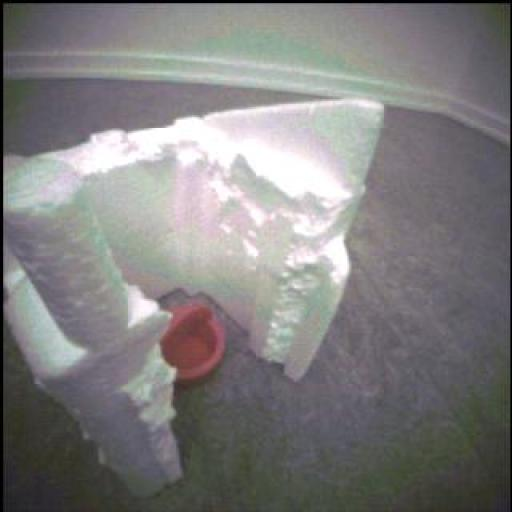Bucket: (152, 301, 245, 380)
